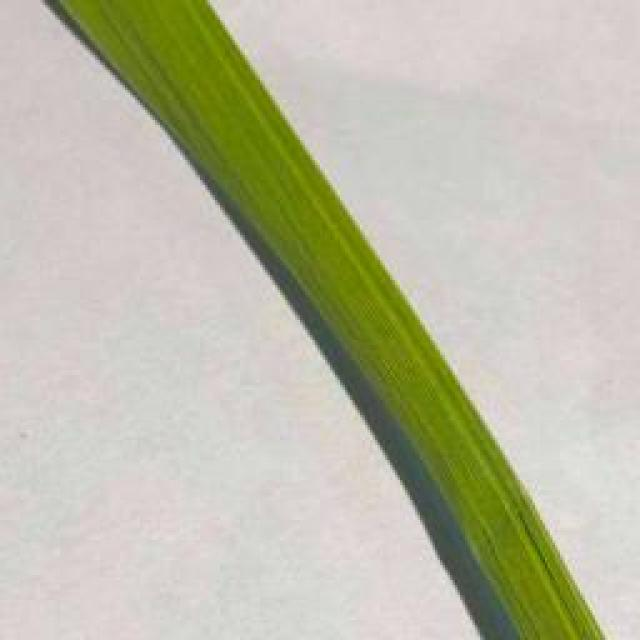Healthy-Plant: (59, 0, 608, 640)
